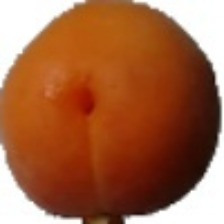apricot: (46, 59, 220, 204)
